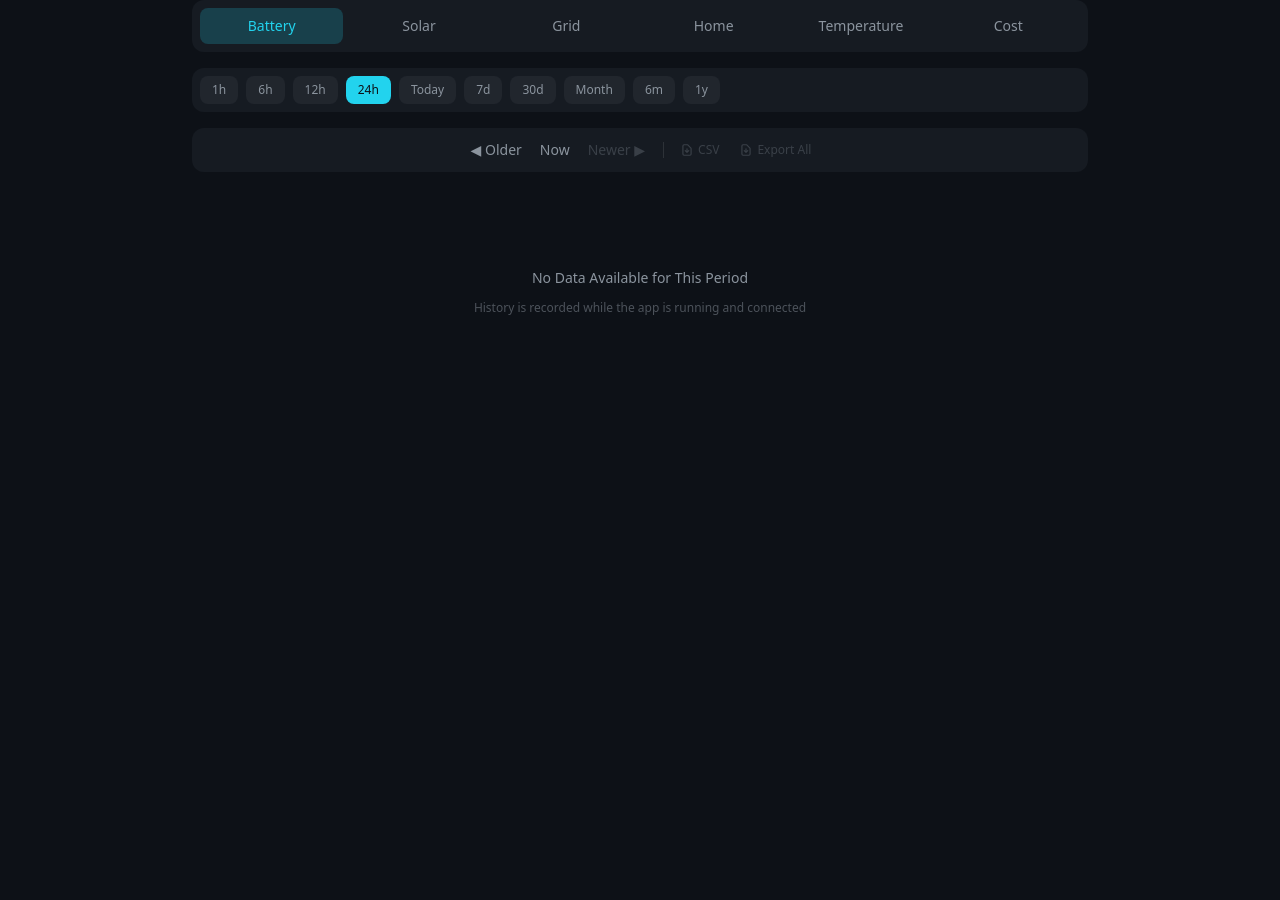
<HistoryPage/> — period totals, cost breakdown, window labels › period totals — per-tab additive values › shows Consumed total on the Home tab
This screenshot has width=1280, height=900.
Click the button "Home": (714, 26) 642,8 -> 785,44
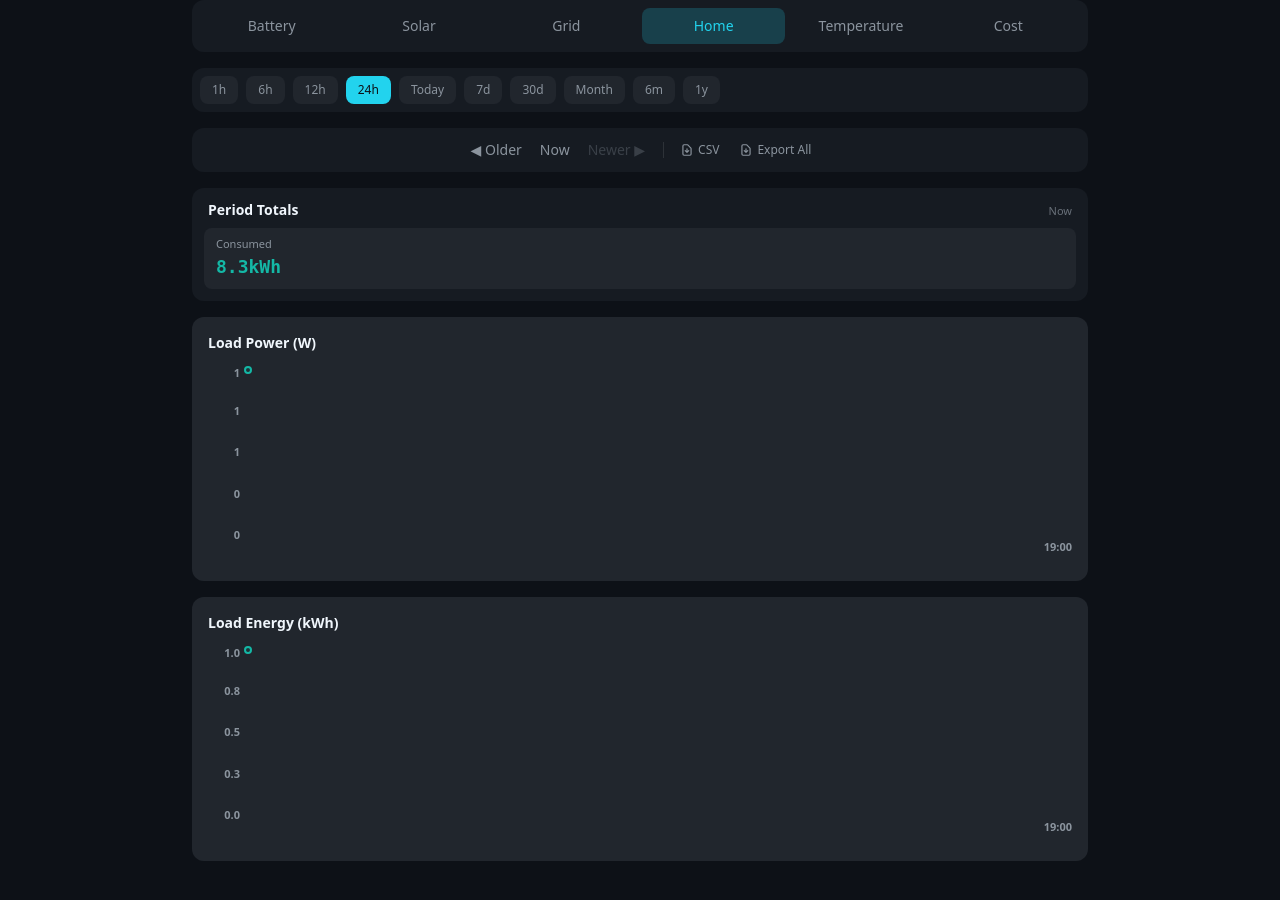
Expected: the text "Consumed" is shown, 216,236 -> 272,251
Expected: the text "8.3kWh" is shown, 216,256 -> 281,276
